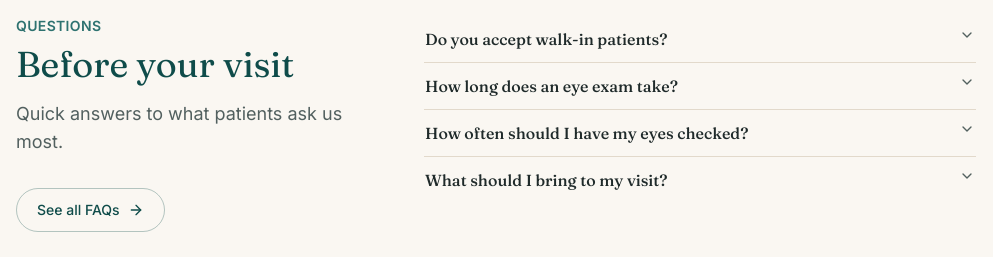
it: FaqTeaser › reveals the answer when a question is opened
Step 1. Click the button "Do you accept walk-in patients?" → {"x": 546, "y": 39}, box left=424, top=16, right=976, bottom=62
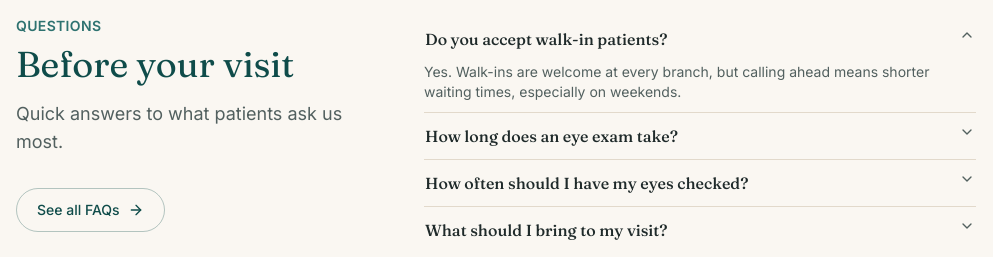
Result: the button "Do you accept walk-in patients?" is expanded at left=424, top=16, right=976, bottom=62
Result: the text "Yes. Walk-ins are welcome at every branch, but calling ahead means shorter waiting times, especially on weekends." is shown at left=424, top=63, right=929, bottom=100
